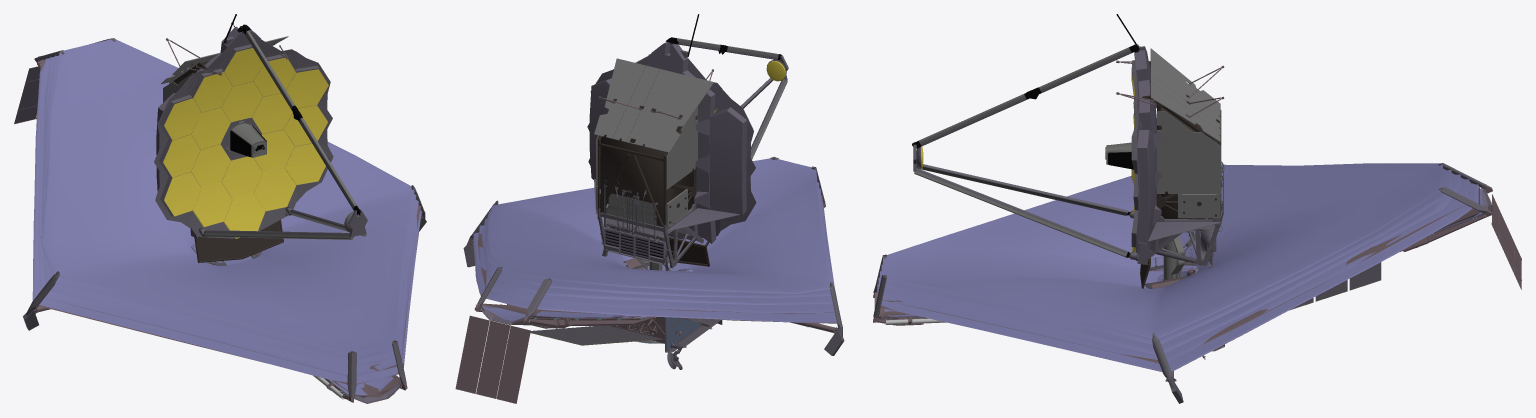
File: jwst.glb
The picture shows the model from 3 angles, left to right: view 1: azimuth 30°, elevation 25°; view 2: azimuth 150°, elevation 25°; view 3: azimuth 270°, elevation 25°; orthographic projection. The views are drawn at different scales.
Visible parts, largest first — view 1: jwst_GEO; view 2: jwst_GEO; view 3: jwst_GEO.
Boxes of the visible parts, x1,y1,x2,y2 form: jwst_GEO: (14,14,426,403); jwst_GEO: (455,14,844,403); jwst_GEO: (873,14,1521,403).
Size of the model in its own units: 1.48 by 1.19 by 2.12.
